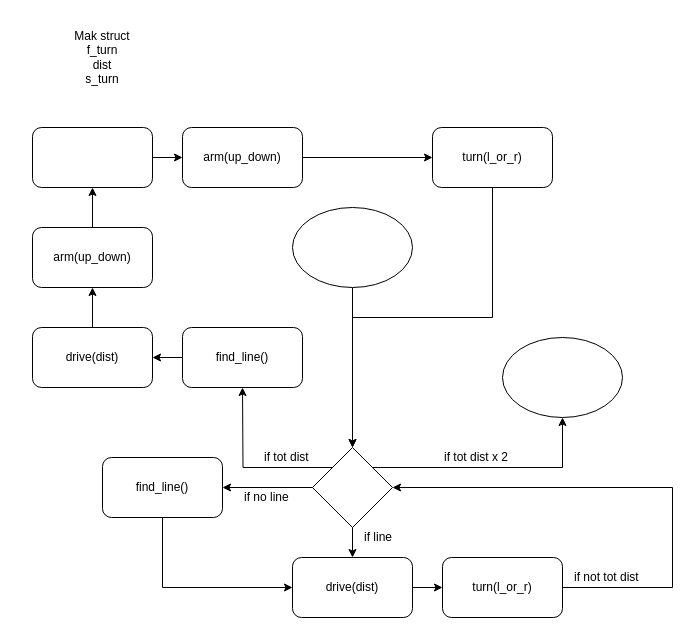
The diagram is 698 pixels wide and 635 high, and some of its shapes have lost their labels. The centre of each missing label's shape, as x and y in pixels:
claw(open_close): (92,157)
Start: (352,247)
stop: (562,377)
